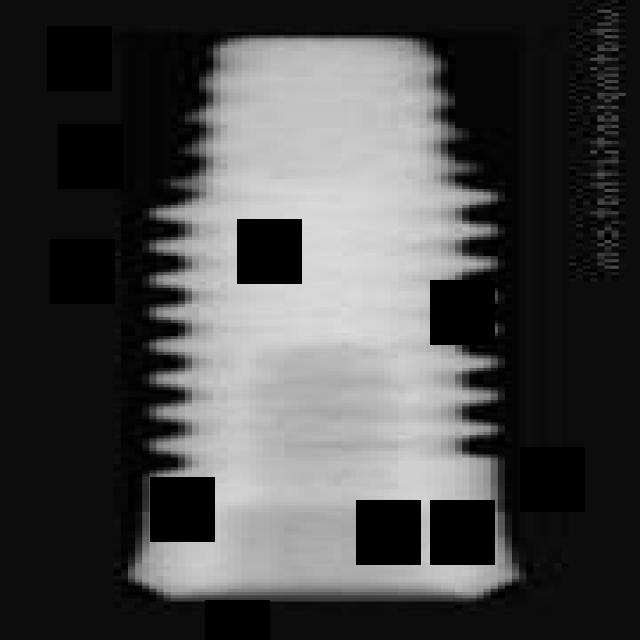Osstem Implant: (121, 32, 519, 598)
